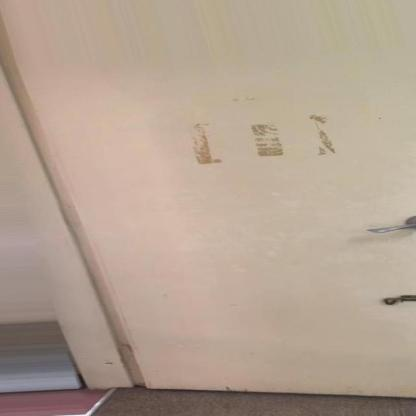door: (9, 0, 416, 402)
